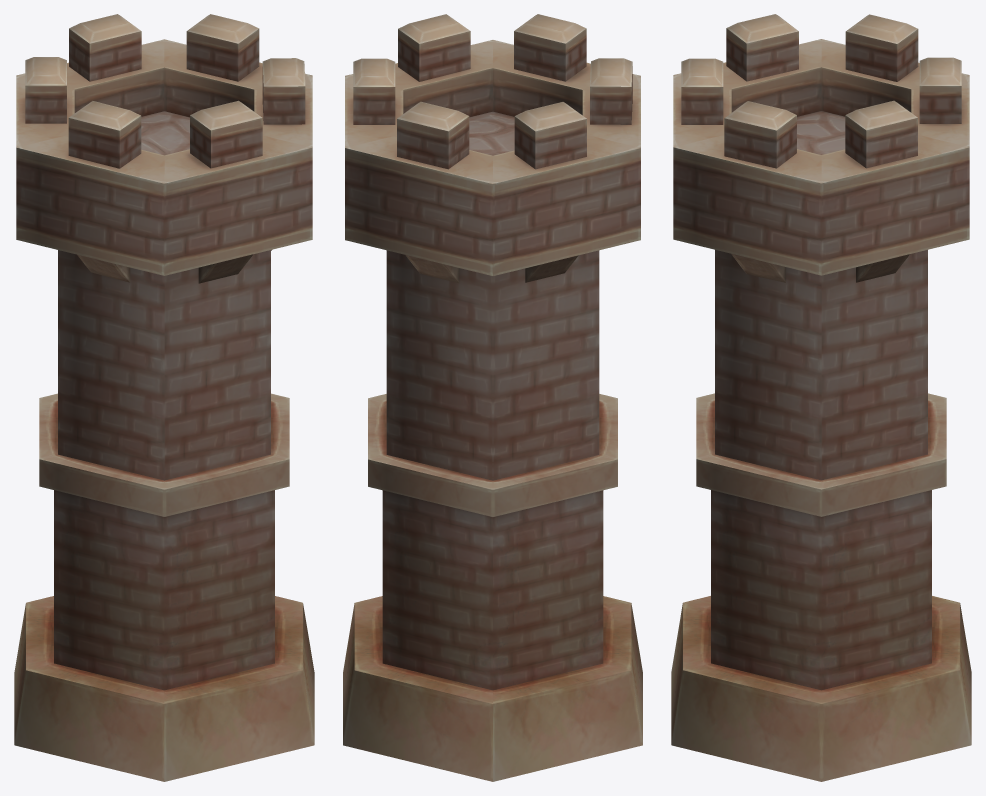
File: castleWalls_tower_1.FBX
The picture shows the model from 3 angles, left to right: view 1: azimuth 30°, elevation 25°; view 2: azimuth 150°, elevation 25°; view 3: azimuth 270°, elevation 25°; orthographic projection.
Parts seen in each view (by area): view 1: castleWalls_tower_1; view 2: castleWalls_tower_1; view 3: castleWalls_tower_1.
Boxes of the visible parts, left/top/right/bottom form: castleWalls_tower_1: left=14, top=14, right=314, bottom=781; castleWalls_tower_1: left=343, top=14, right=642, bottom=781; castleWalls_tower_1: left=671, top=14, right=971, bottom=781.
Bounding box in the file's own units: 255 × 521 × 221.
Materials: 1 (1 with a texture image).
